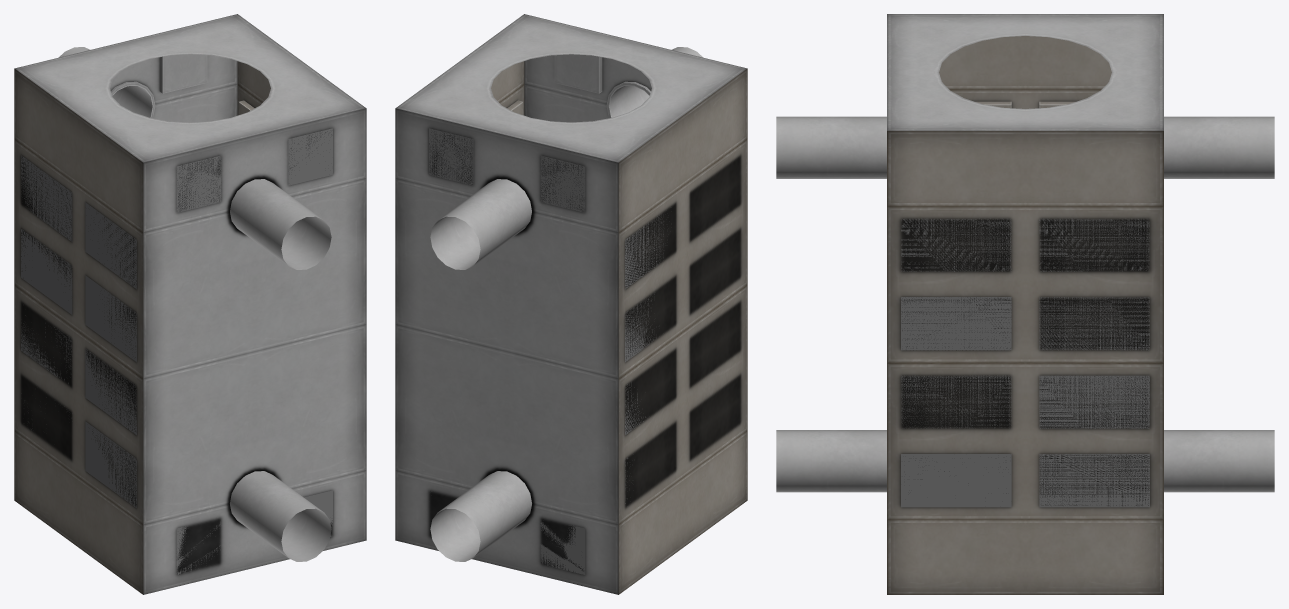
The model's file is long lab interior.obj.
3 views of the same model, side by side, from view 1: azimuth 30°, elevation 25°; view 2: azimuth 150°, elevation 25°; view 3: azimuth 270°, elevation 25° (orthographic). The views are drawn at different scales.
Parts seen in each view (by area): view 1: i1; view 2: i1; view 3: i1.
Boxes of the visible parts, <box> form: i1: <box>14,14,366,594</box>; i1: <box>395,14,747,594</box>; i1: <box>776,14,1274,594</box>.
Size of the model in its own units: 1 by 1.85 by 1.8.
Materials: 1 (1 with a texture image).
